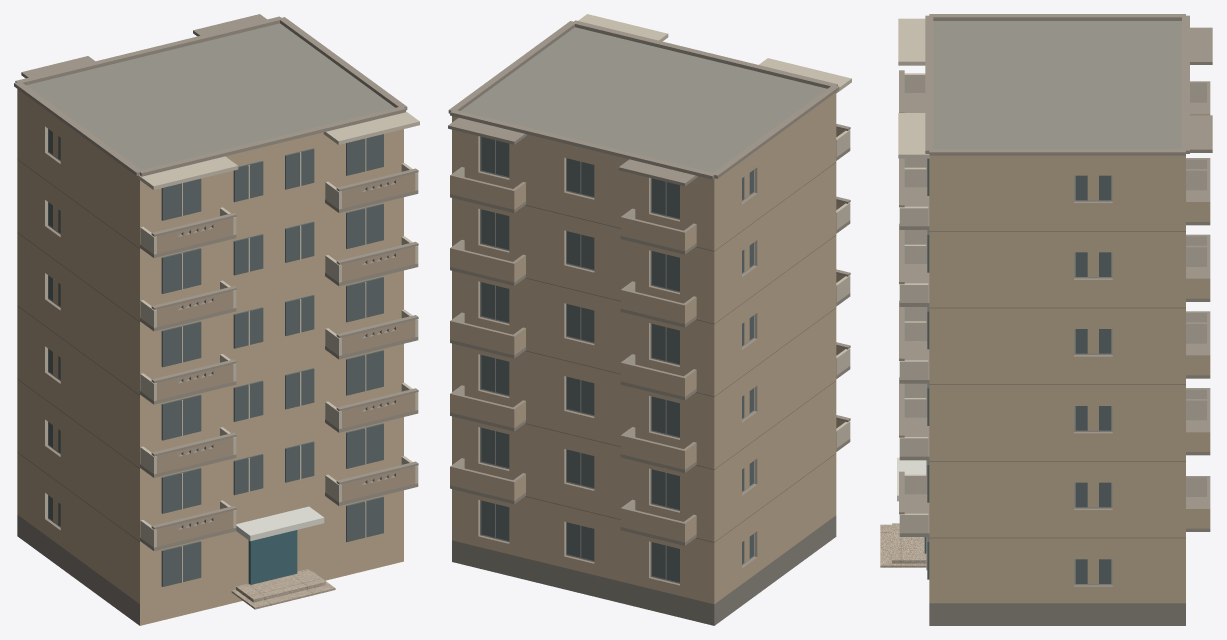
The model's file is chunk-dorm-way-759147058.glb.
The picture shows the model from 3 angles, left to right: view 1: azimuth 30°, elevation 25°; view 2: azimuth 150°, elevation 25°; view 3: azimuth 270°, elevation 25°; orthographic projection. The views are drawn at different scales.
Parts seen in each view (by area): view 1: chunk-dorm-way-759147058; view 2: chunk-dorm-way-759147058; view 3: chunk-dorm-way-759147058.
Boxes of the visible parts, x1,y1,x2,y2 form: chunk-dorm-way-759147058: (14,14,419,625); chunk-dorm-way-759147058: (448,14,851,625); chunk-dorm-way-759147058: (880,14,1212,625).
Size of the model in its own units: 12.76 by 20.45 by 12.95.
12 materials, 1 textured.
